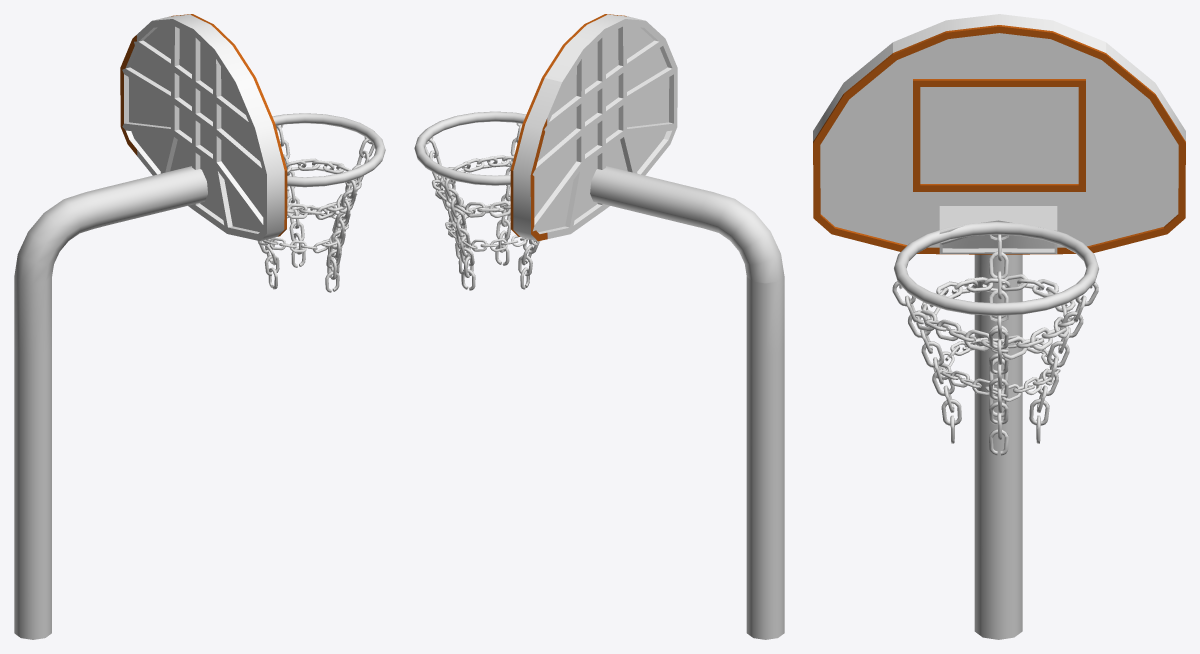
The model's file is CourtTextureTest.FBX.
The picture shows the model from 3 angles, left to right: view 1: azimuth 30°, elevation 25°; view 2: azimuth 150°, elevation 25°; view 3: azimuth 270°, elevation 25°; orthographic projection. The views are drawn at different scales.
Parts seen in each view (by area): view 1: Box003, Cylinder012, Torus001, Circle291, Circle297, Circle293; view 2: Box003, Cylinder012, Torus001, Circle290; view 3: Box003, Cylinder012, Torus001, Circle290, Circle293, Circle291, Circle292, Circle294, Circle295.
Part boxes in pixels (x1=…): Box003: x1=120, y1=14, x2=287, y2=240; Cylinder012: x1=14, y1=166, x2=207, y2=639; Torus001: x1=272, y1=113, x2=385, y2=187; Circle291: x1=285, y1=158, x2=350, y2=173; Circle297: x1=257, y1=237, x2=337, y2=253; Circle293: x1=287, y1=201, x2=346, y2=219; Box003: x1=510, y1=14, x2=677, y2=241; Cylinder012: x1=590, y1=166, x2=784, y2=639; Torus001: x1=414, y1=111, x2=526, y2=185; Circle290: x1=437, y1=155, x2=513, y2=181; Box003: x1=813, y1=14, x2=1185, y2=254; Cylinder012: x1=974, y1=254, x2=1022, y2=639; Torus001: x1=894, y1=206, x2=1098, y2=315; Circle290: x1=916, y1=310, x2=1009, y2=353; Circle293: x1=916, y1=277, x2=1010, y2=325; Circle291: x1=1001, y1=316, x2=1074, y2=359; Circle292: x1=1001, y1=274, x2=1075, y2=324; Circle294: x1=936, y1=364, x2=1006, y2=397; Circle295: x1=1001, y1=368, x2=1060, y2=401.
Size of the model in its own units: 58.55 by 87.87 by 41.5.
